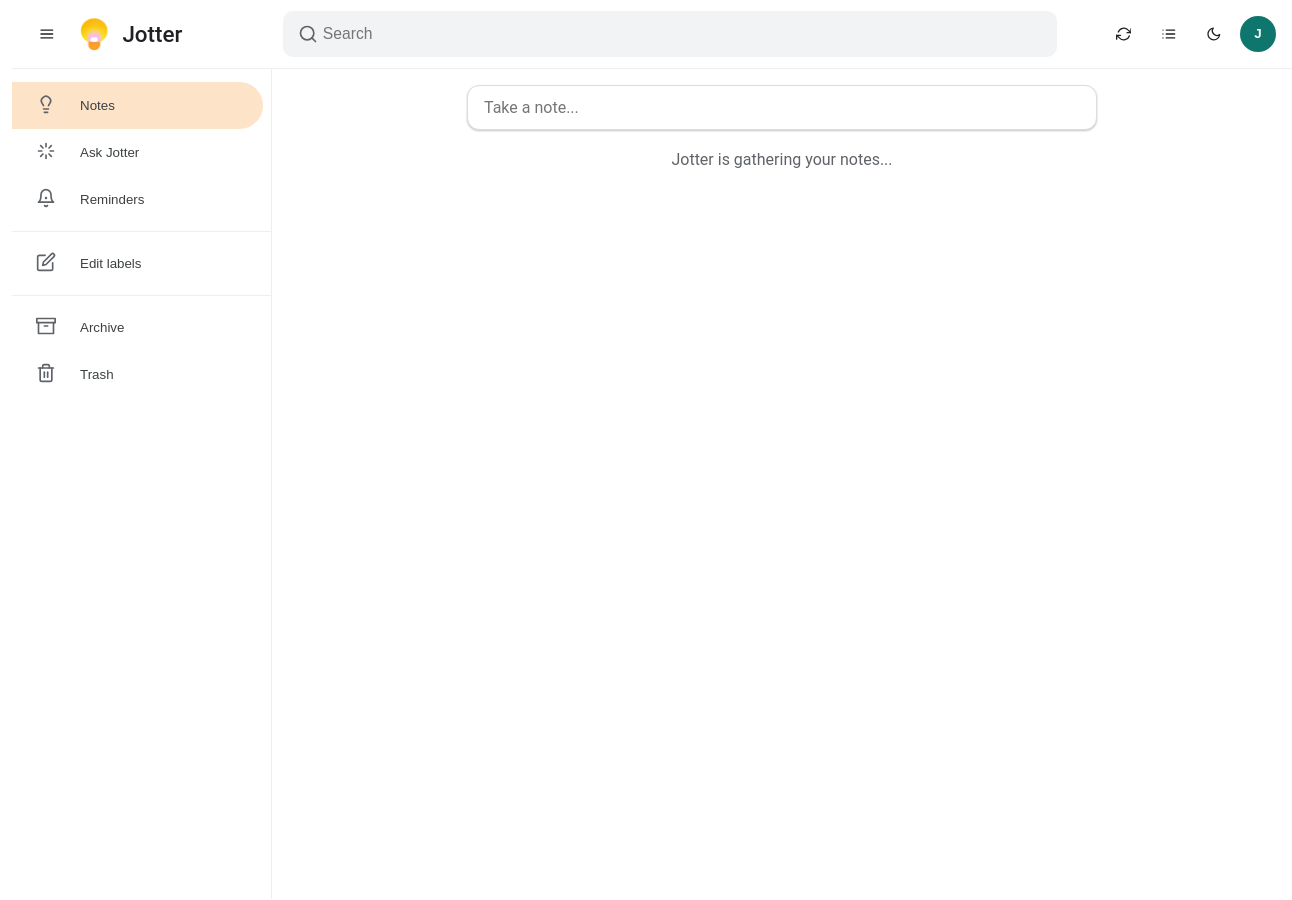
Test: DashboardPage › creates a new note
Focus the field with placeholder "Take a note..." at (784,108), box [482, 97, 1086, 118]
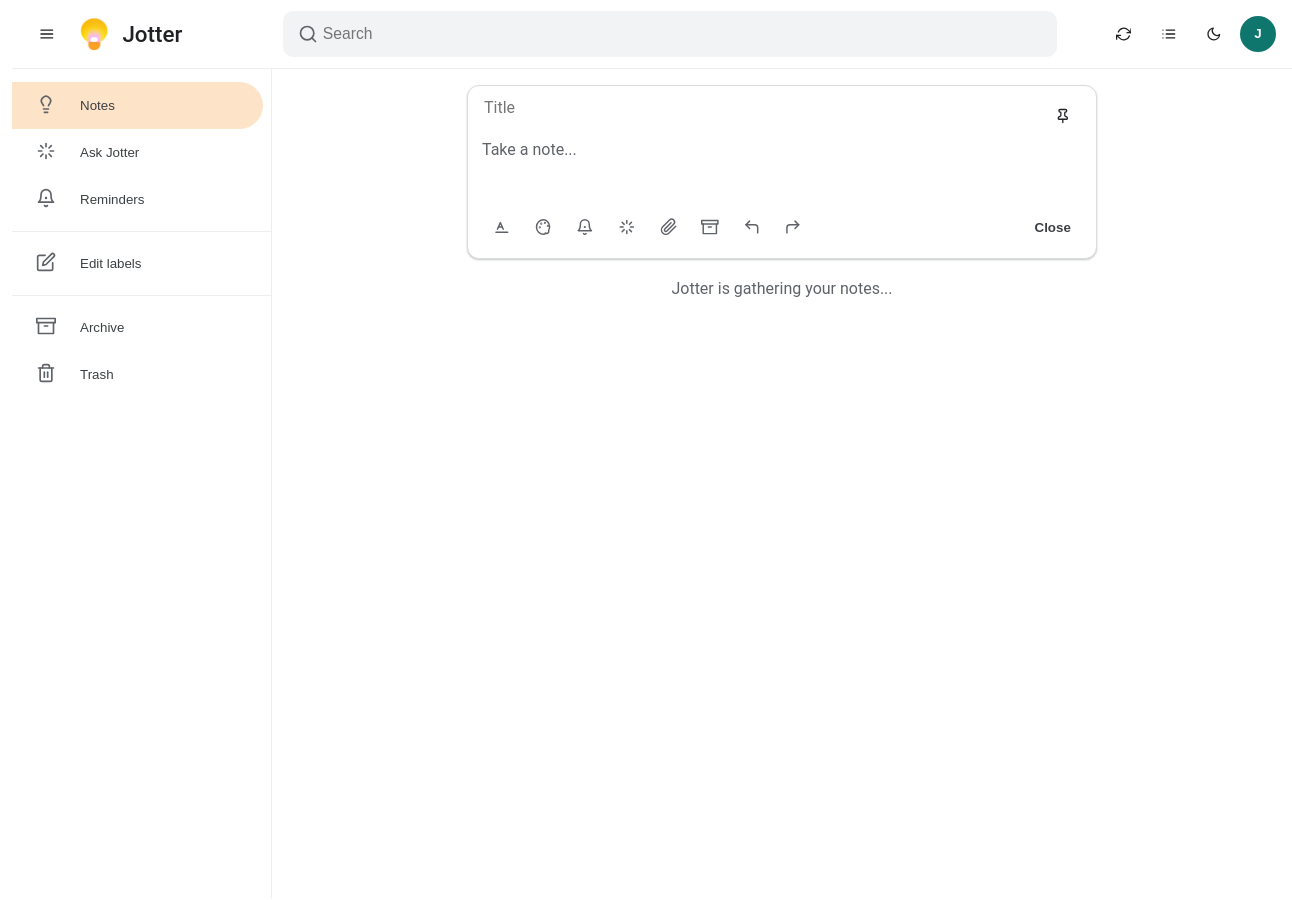
Type "New Note" into the field with placeholder "Title".
click(759, 108); type("New Note")  # box [482, 97, 1036, 118]
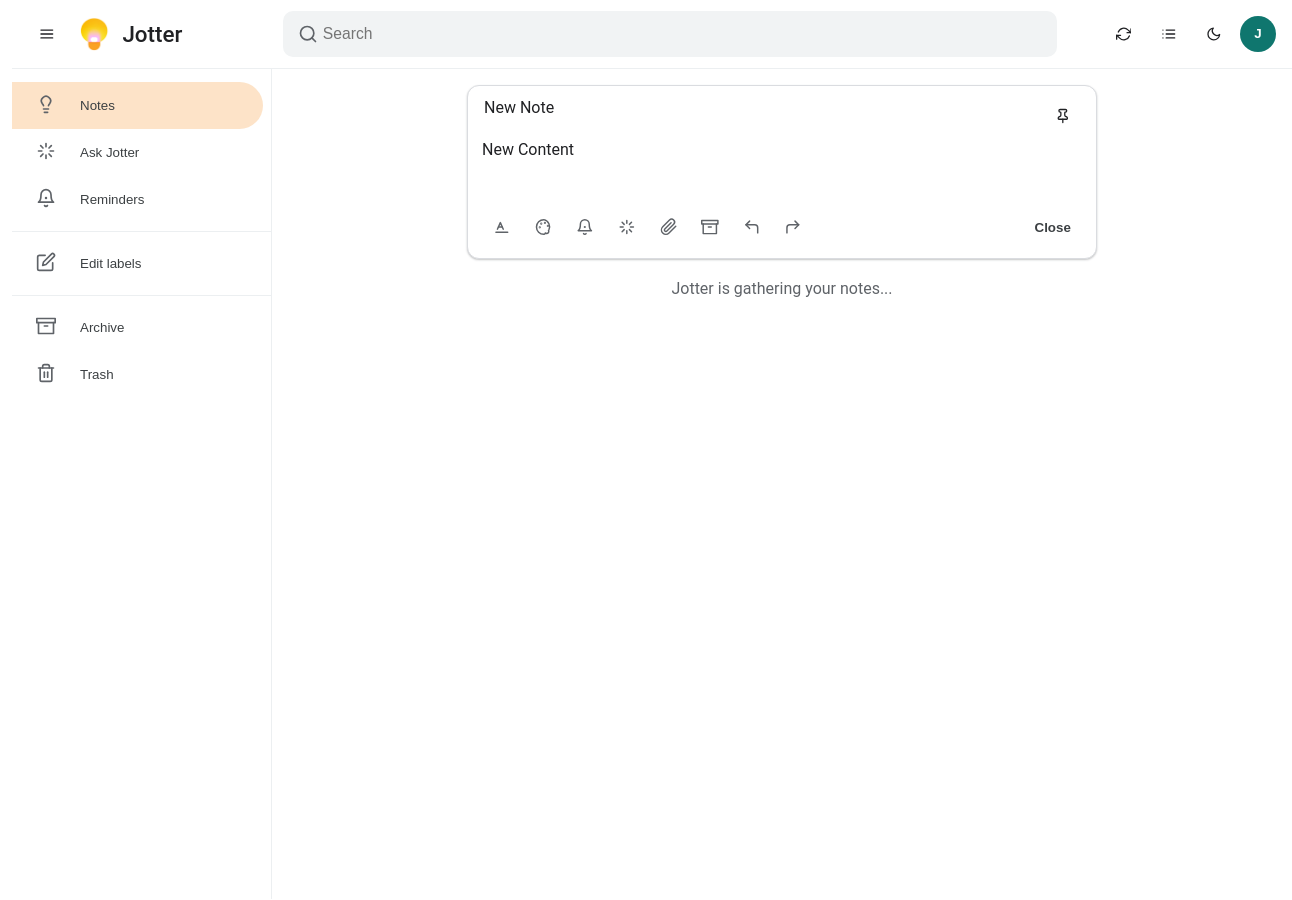
# Submit by clicking the Close button
Click the button "Close".
click(1053, 227)  # box [1023, 212, 1082, 242]
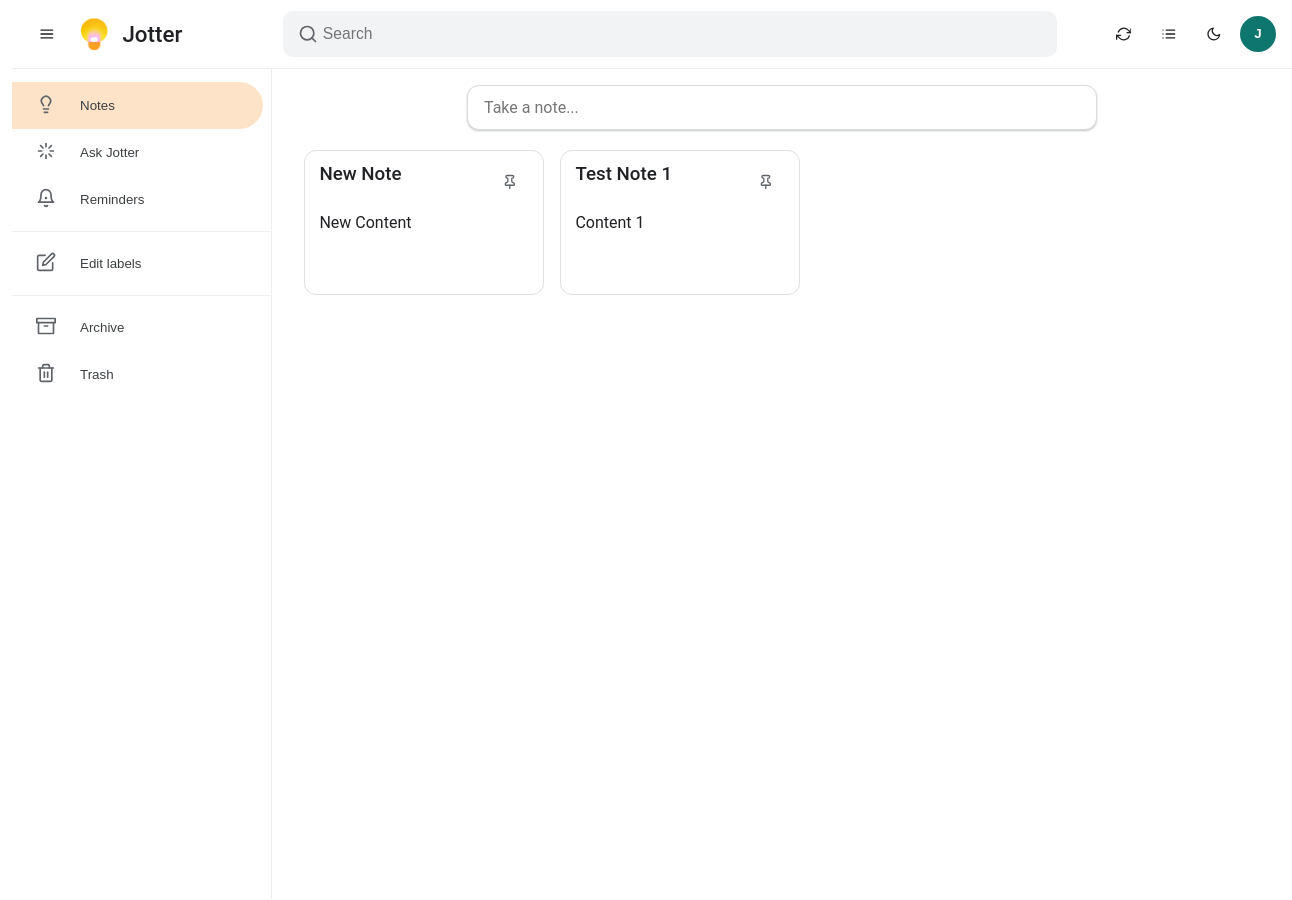
Expected: the heading "New Note" is shown, [319, 163, 402, 185]
